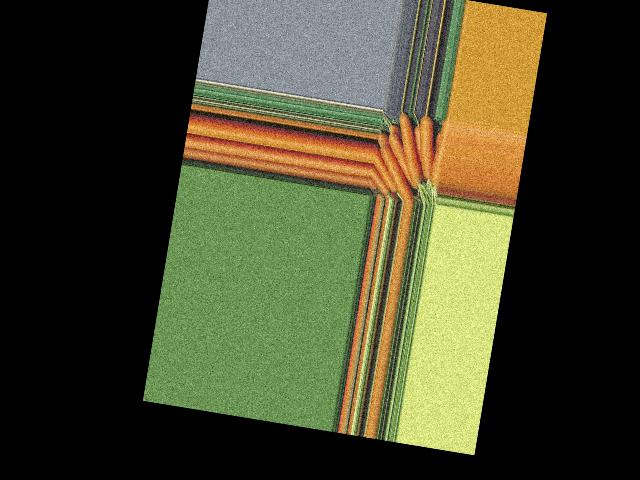carrot: (371, 142, 422, 202)
